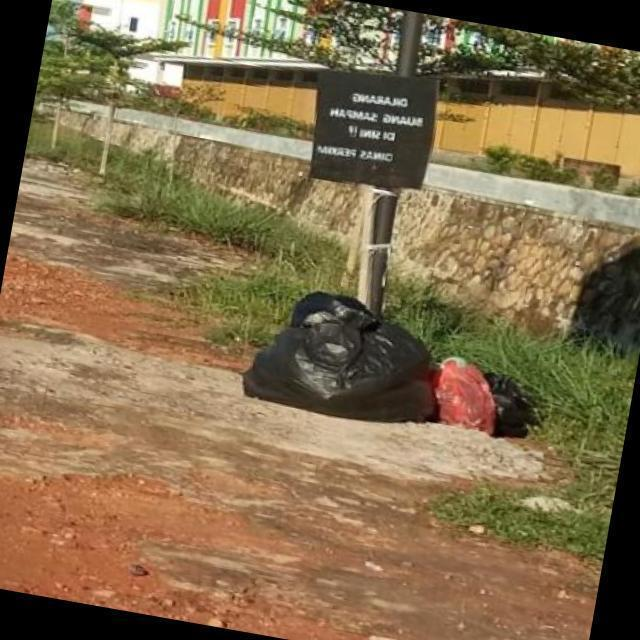Garbage_Bag: (237, 275, 461, 436)
